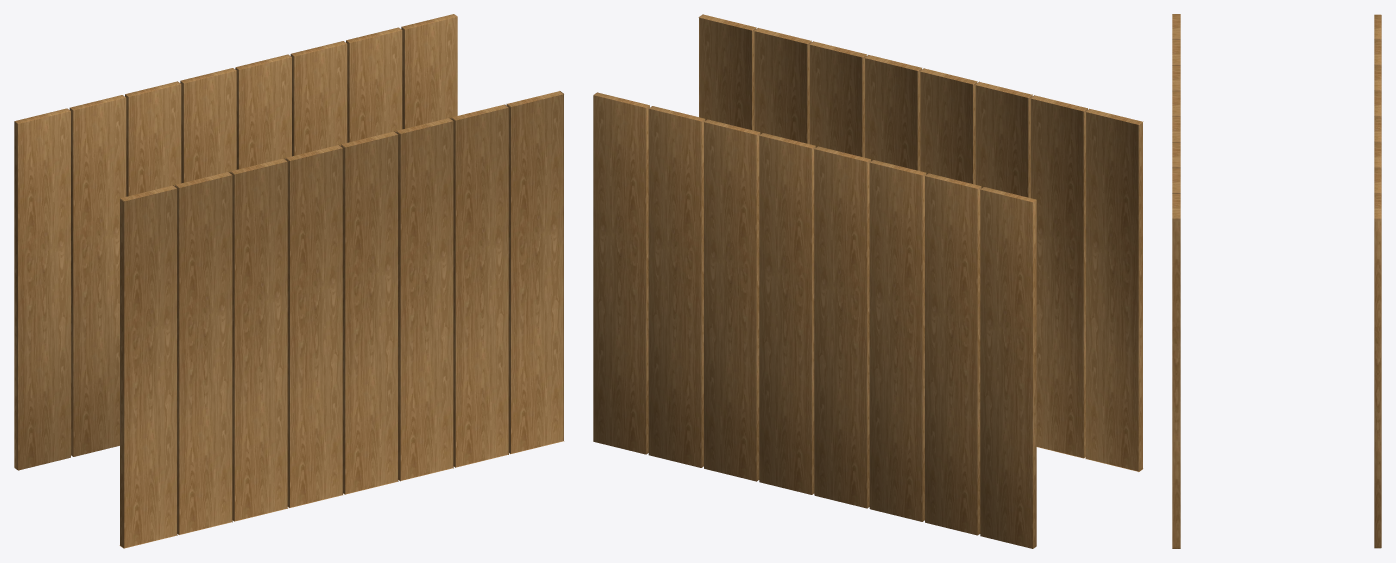
File: TER-ESR-001_anim.glb
3 renders of one model, left to right at view 1: azimuth 30°, elevation 25°; view 2: azimuth 150°, elevation 25°; view 3: azimuth 270°, elevation 25°, orthographic. The views are drawn at different scales.
Visible parts, largest first — view 1: TER-ESR-001_anim0; view 2: TER-ESR-001_anim0; view 3: TER-ESR-001_anim0.
Part boxes in pixels (box(x1,y1,x2,y2)): TER-ESR-001_anim0: box(14, 14, 564, 548); TER-ESR-001_anim0: box(593, 14, 1143, 548); TER-ESR-001_anim0: box(1172, 14, 1381, 548).
Size of the model in its own units: 1.99 by 1.5 by 0.862.
1 material, 1 textured.
